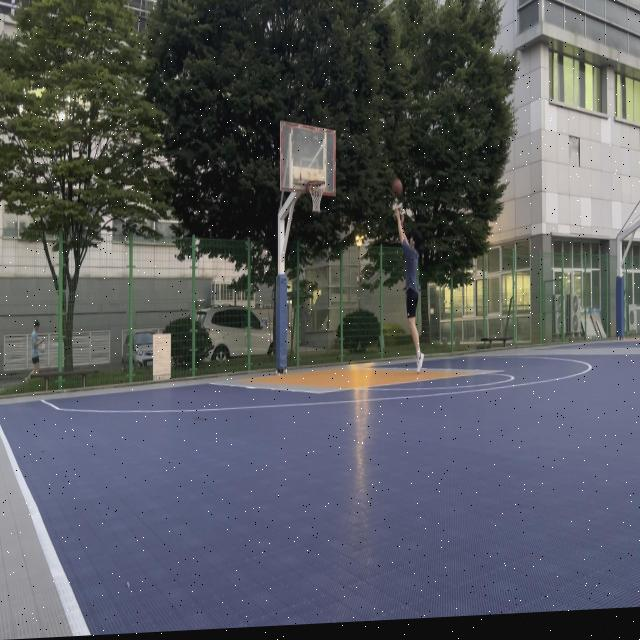basketball: (392, 178, 403, 199)
hoop: (308, 179, 326, 214)
